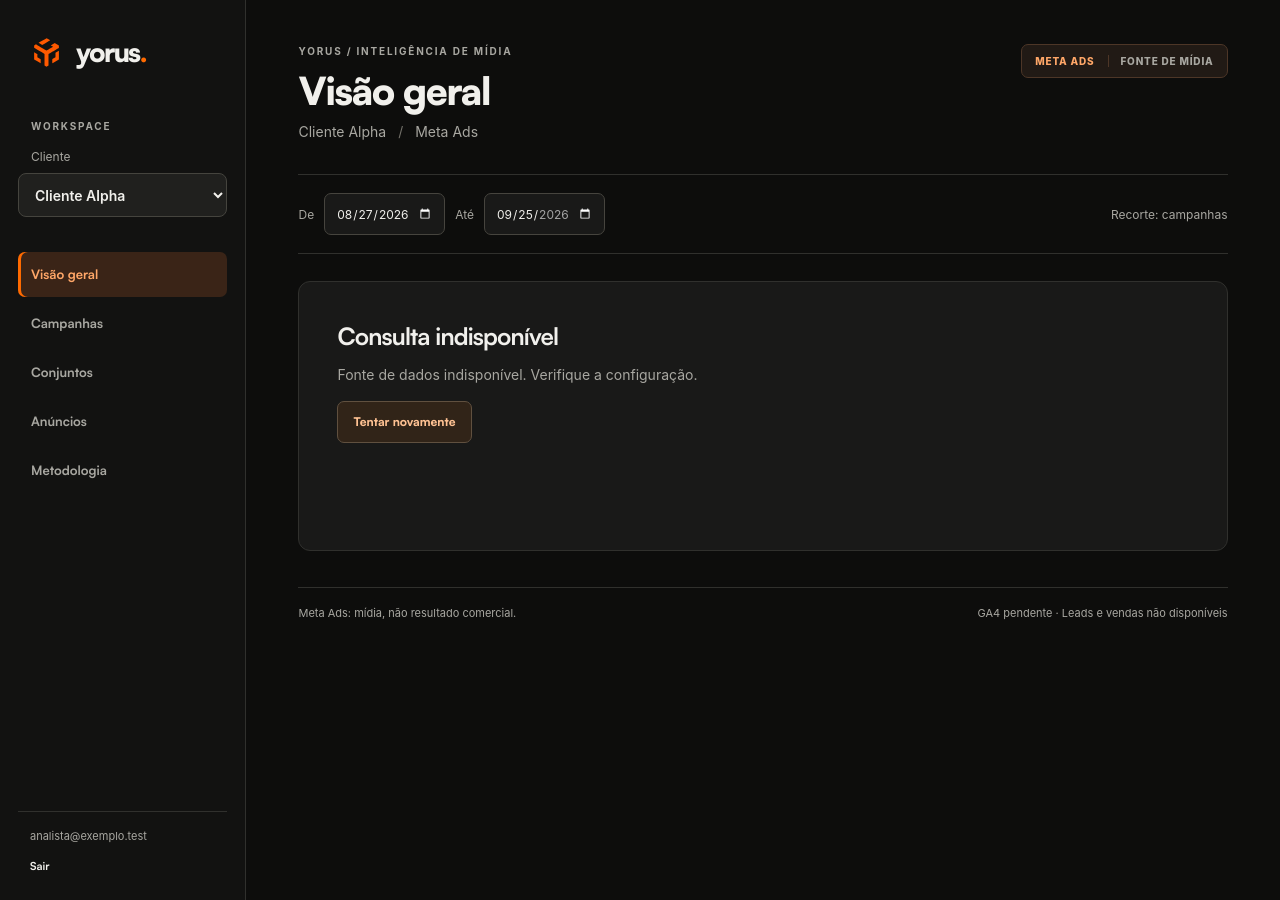
Test: dashboard UI › shows a dashboard source error and retries without showing invented metrics
This screenshot has width=1280, height=900.
Expected: the message shows "Fonte de dados indisponível", [338, 366, 698, 384]
Expected: the text "Campanha, principal" is not shown
Click the button "Tentar novamente" at x=404, y=422, box [338, 401, 472, 443]
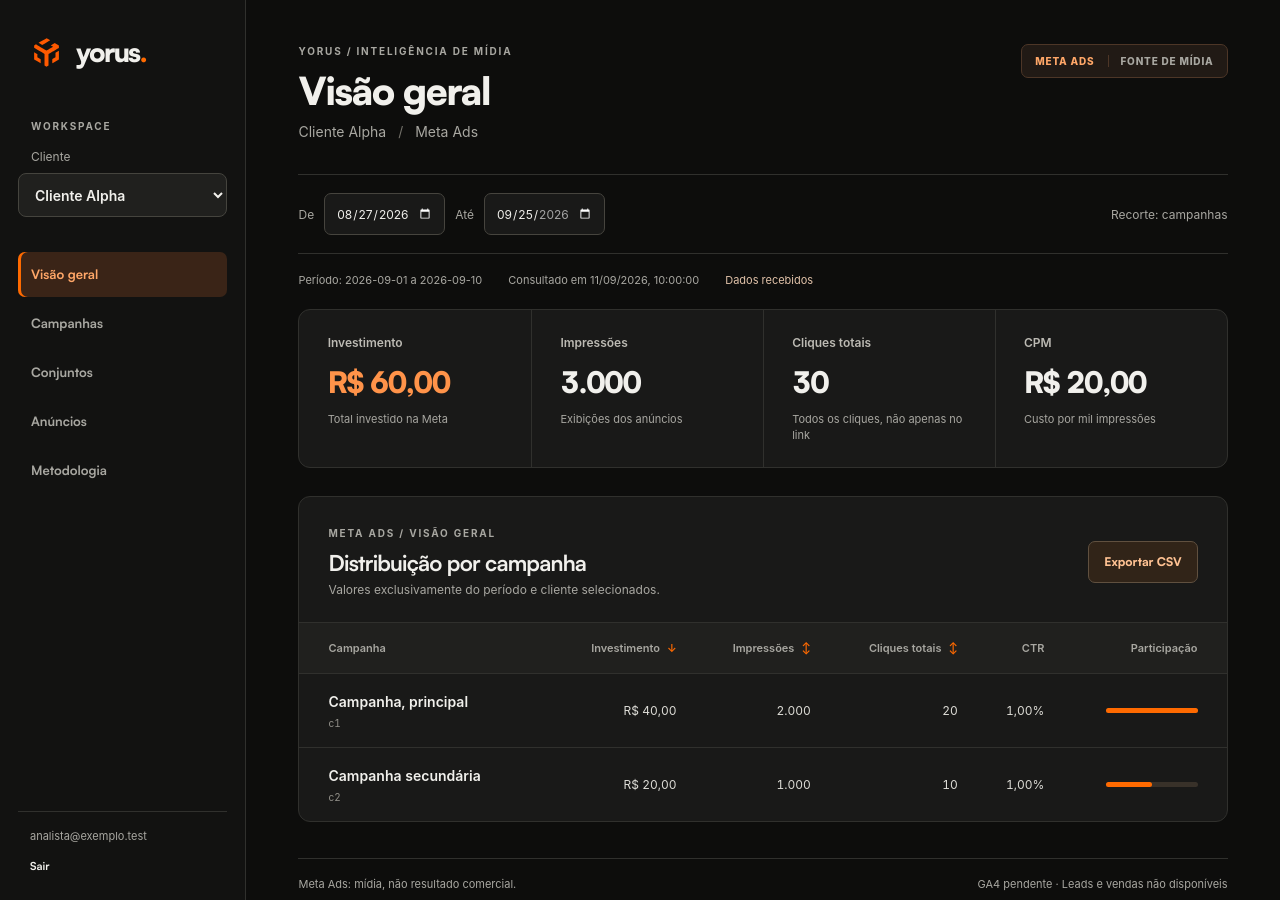
Result: the text "Campanha, principal" is shown at [328, 693, 468, 710]
